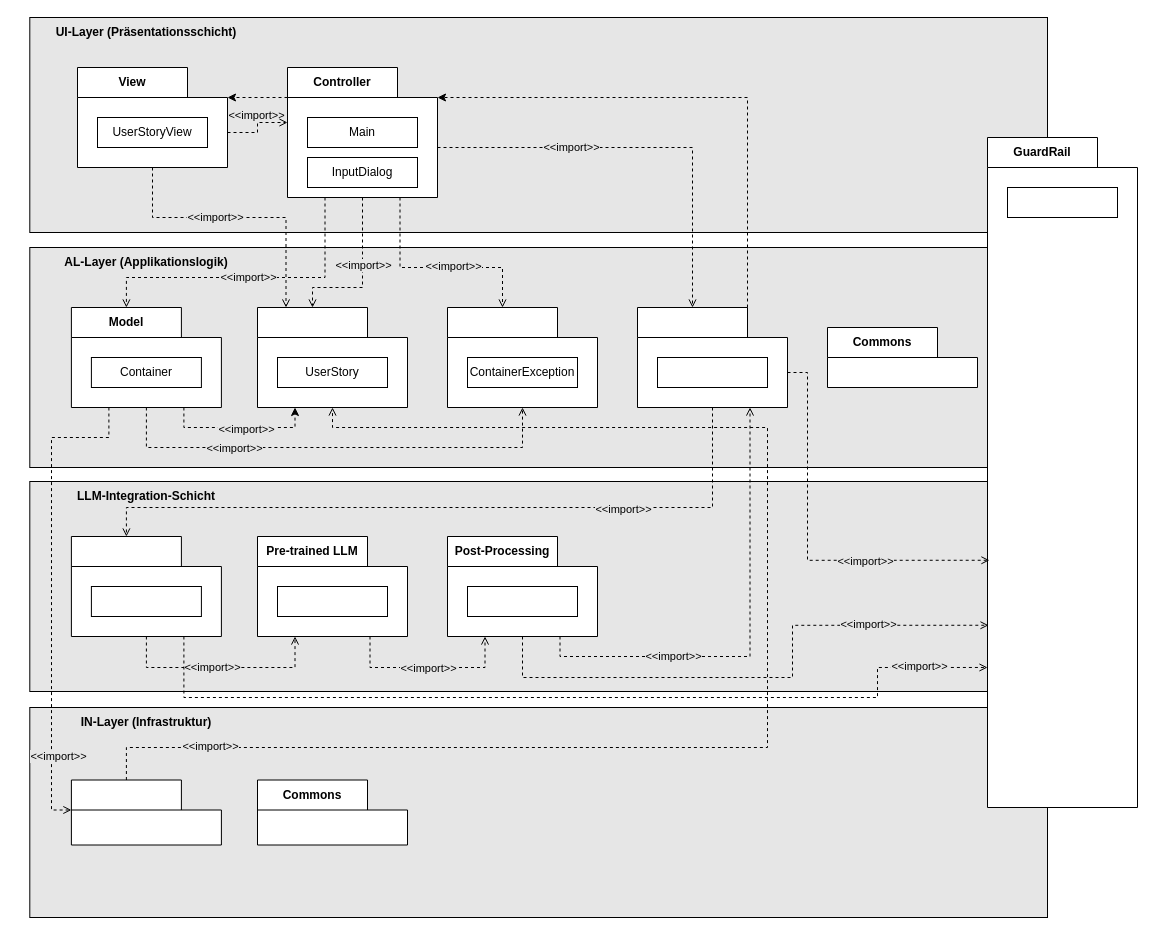
Image size: 1155x935. Some labels were removed from this diagram. The shapes that lost their labels are listed below. From the top down, each one's centre as x and y in pixels, then its label:
At pixel 332 357: "Entity".
At pixel 522 357: "Exception".
At pixel 712 357: "Orchestrator".
At pixel 145 586: "Pre-Processing".
At pixel 145 812: "MongoDB".
